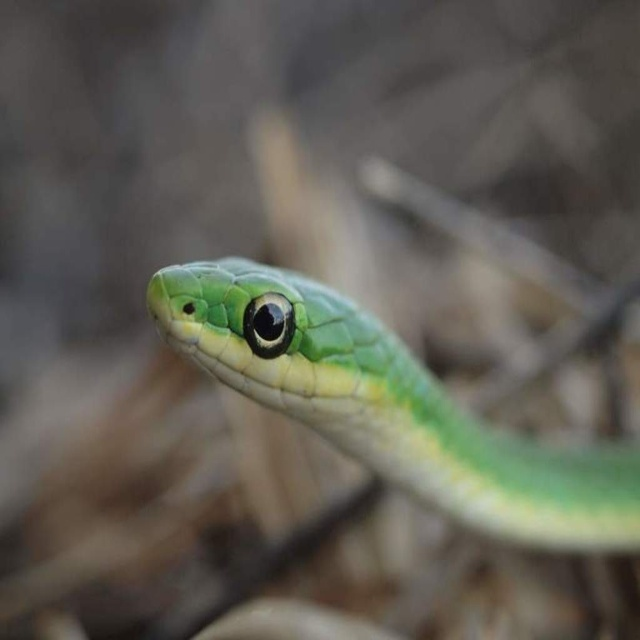Snake: (145, 255, 640, 555)
